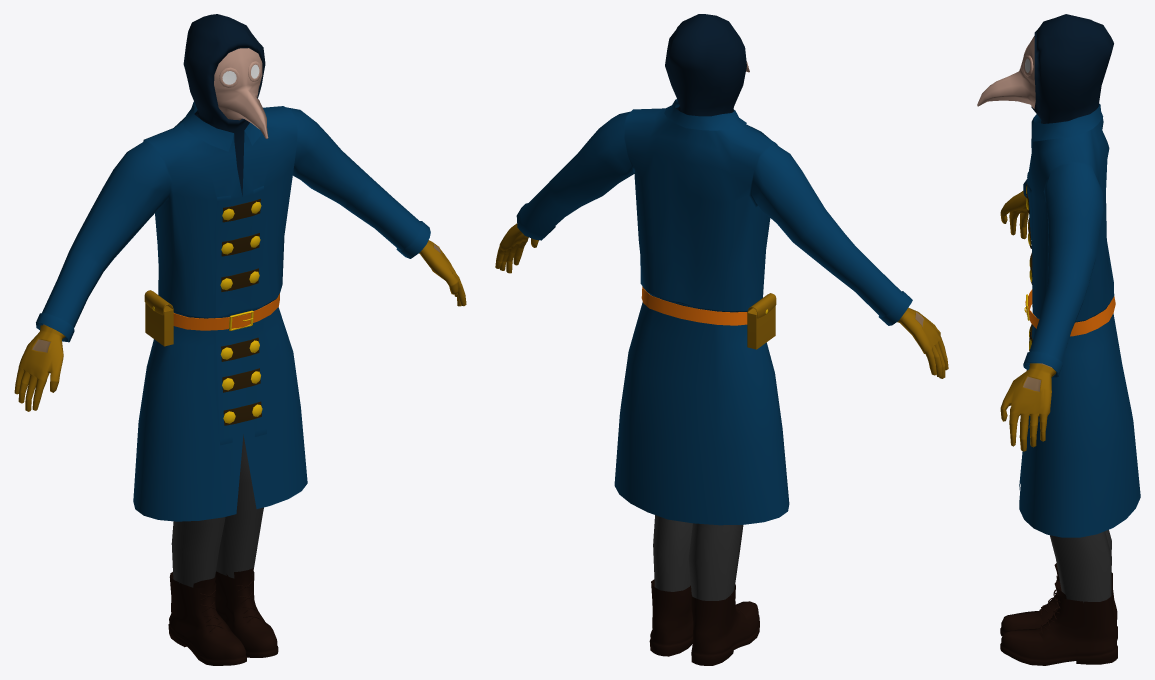
File: Eagel_mod.fbx
3 renders of one model, left to right at view 1: azimuth 30°, elevation 25°; view 2: azimuth 150°, elevation 25°; view 3: azimuth 270°, elevation 25°, orthographic.
Visible parts, largest first — view 1: Cloth, Pants, Hat, Shoe_R, Shoe_L, Mask, Glove_With_Arm_R, Belt, polySurface2, Glove_With_Arm_L; view 2: Cloth, Hat, Pants, Shoe_R, Shoe_L, Glove_With_Arm_R, Belt, polySurface2, Glove_With_Arm_L; view 3: Cloth, Hat, Shoe_L, Pants, Glove_With_Arm_L, Mask, Shoe_R, Belt, Glove_With_Arm_R.
Boxes of the visible parts, left/top/right/bottom form: Cloth: left=36, top=101, right=430, bottom=521; Pants: left=171, top=434, right=263, bottom=587; Hat: left=183, top=14, right=265, bottom=196; Shoe_R: left=168, top=572, right=246, bottom=665; Shoe_L: left=215, top=568, right=278, bottom=657; Mask: left=214, top=48, right=268, bottom=138; Glove_With_Arm_R: left=14, top=324, right=65, bottom=411; Belt: left=173, top=293, right=279, bottom=330; polySurface2: left=144, top=290, right=173, bottom=346; Glove_With_Arm_L: left=419, top=240, right=466, bottom=306; Cloth: left=516, top=99, right=912, bottom=525; Hat: left=665, top=14, right=746, bottom=116; Pants: left=653, top=515, right=743, bottom=600; Shoe_R: left=690, top=584, right=759, bottom=665; Shoe_L: left=649, top=579, right=693, bottom=656; Glove_With_Arm_R: left=897, top=307, right=948, bottom=378; Belt: left=641, top=286, right=747, bottom=325; polySurface2: left=747, top=293, right=776, bottom=349; Glove_With_Arm_L: left=495, top=223, right=538, bottom=273; Cloth: left=1019, top=103, right=1140, bottom=537; Hat: left=1031, top=14, right=1113, bottom=123; Shoe_L: left=1000, top=581, right=1117, bottom=665; Pants: left=1050, top=530, right=1111, bottom=602; Glove_With_Arm_L: left=1000, top=363, right=1056, bottom=451; Mask: left=977, top=36, right=1035, bottom=108; Shoe_R: left=1000, top=563, right=1117, bottom=639; Belt: left=1024, top=289, right=1115, bottom=336; Glove_With_Arm_R: left=1000, top=191, right=1028, bottom=239.
Size of the model in its own units: 135 by 183 by 42.86.
